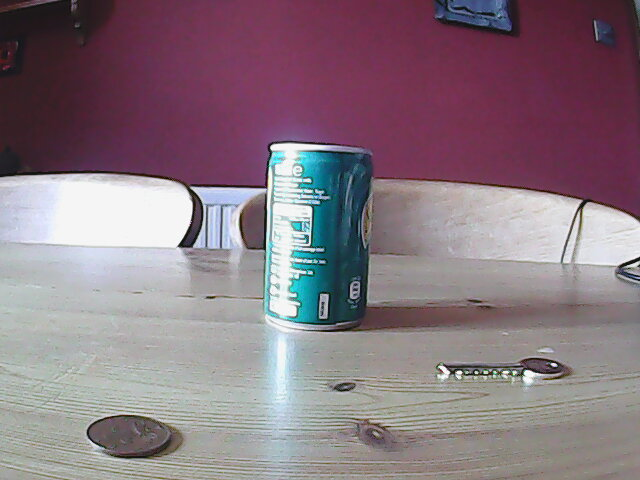Can: (260, 142, 376, 335)
Coin: (82, 410, 175, 461)
Key: (431, 356, 568, 387)
